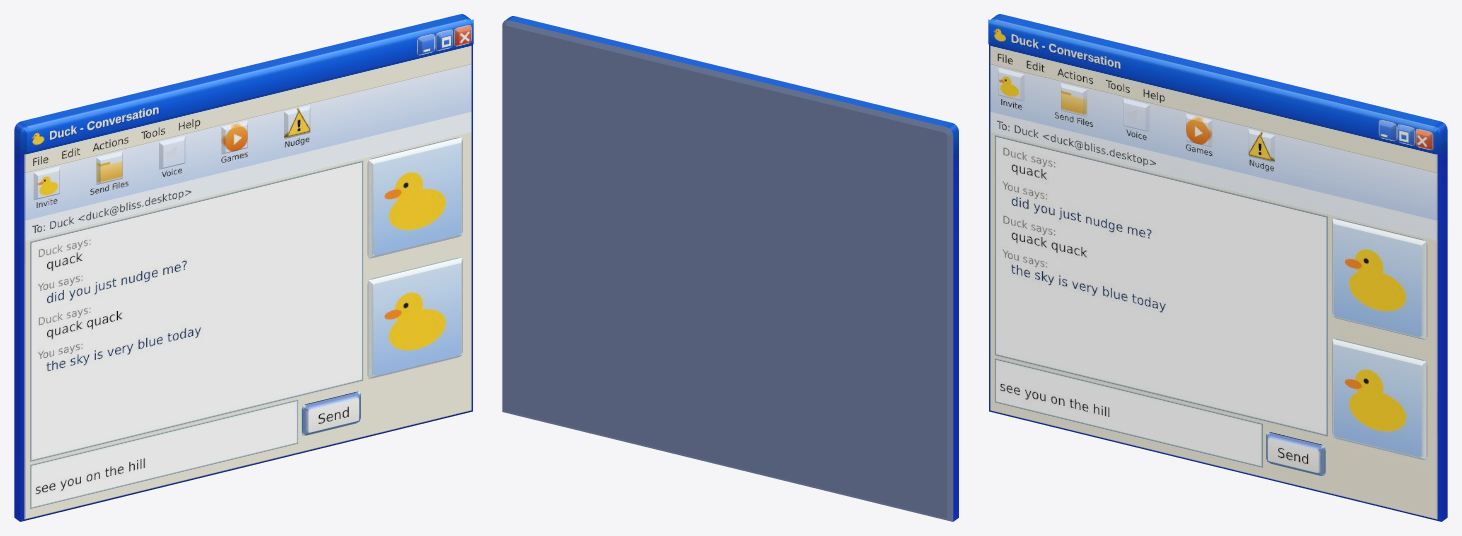
Rendered from chat-duck.glb.
3 views of the same model, side by side, from view 1: azimuth 30°, elevation 25°; view 2: azimuth 150°, elevation 25°; view 3: azimuth 330°, elevation 25° (orthographic).
Parts seen in each view (by area): view 1: chat-duck; view 2: chat-duck; view 3: chat-duck.
Part boxes in pixels (x1,y1,x2,y2): chat-duck: [14, 14, 473, 521]; chat-duck: [502, 16, 958, 521]; chat-duck: [988, 14, 1447, 521].
Size of the model in its own units: 0.72 by 0.6 by 0.038.
Materials: 1 (1 with a texture image).
